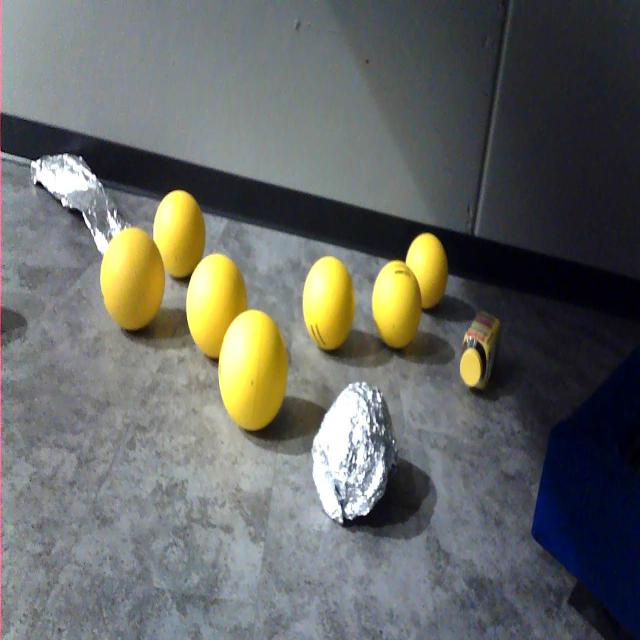Bumper: (527, 328, 640, 640)
fuel: (216, 306, 294, 439), (183, 250, 255, 359), (100, 224, 167, 330), (367, 252, 426, 359), (151, 188, 211, 288), (302, 249, 357, 355), (406, 232, 452, 312)
